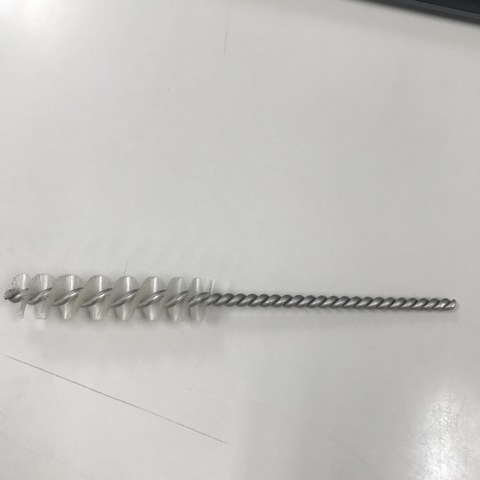Twist Brush-B: (5, 271, 462, 318)
